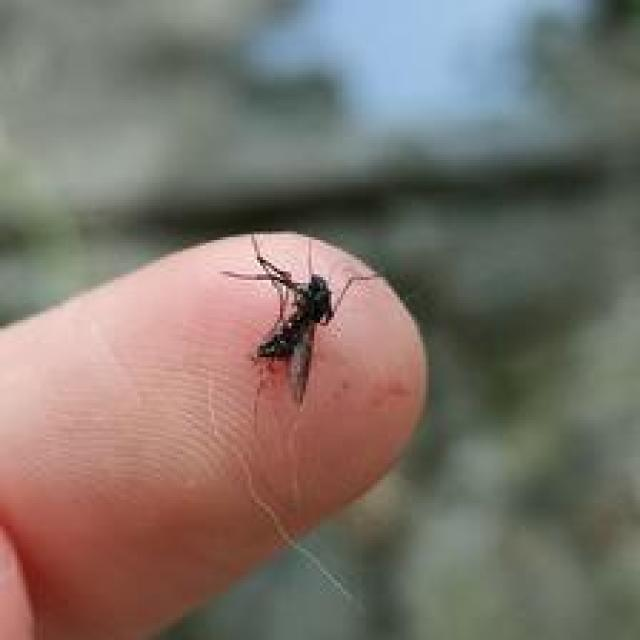Aedes albopictus: (218, 232, 382, 408)
